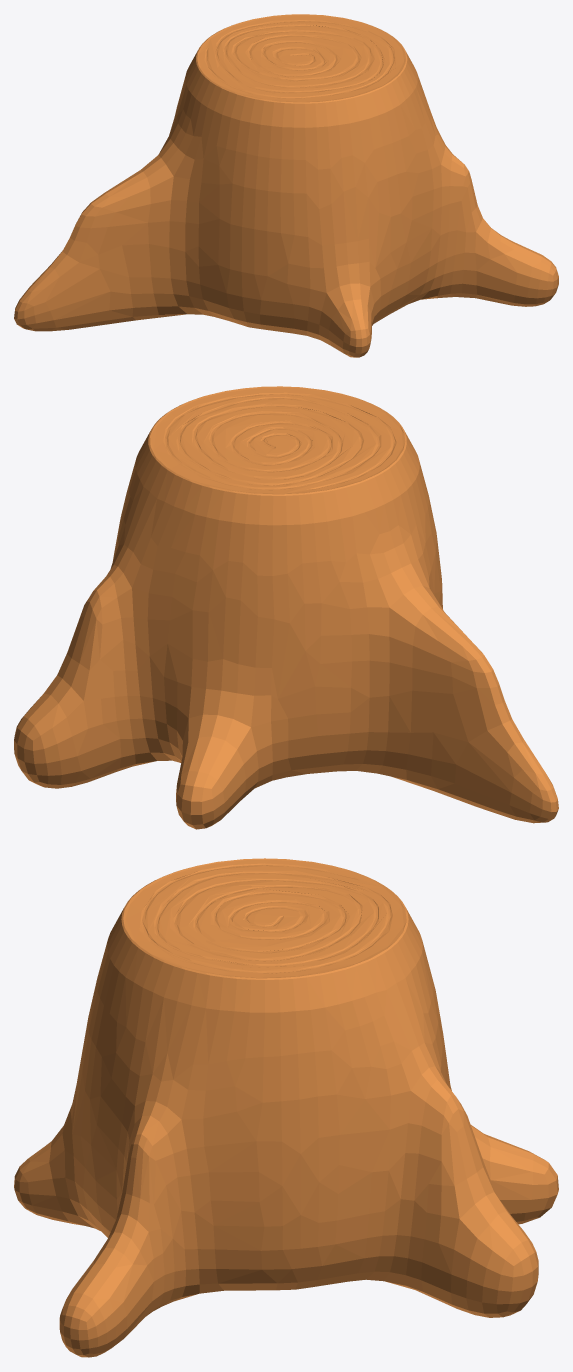
File: TreeStump.fbx
The picture shows the model from 3 angles, top to bottom: view 1: azimuth 30°, elevation 25°; view 2: azimuth 150°, elevation 25°; view 3: azimuth 270°, elevation 25°; orthographic projection. The views are drawn at different scales.
Parts seen in each view (by area): view 1: Cylinder; view 2: Cylinder; view 3: Cylinder.
Boxes of the visible parts, x1=… form: Cylinder: x1=14, y1=14, x2=558, y2=357; Cylinder: x1=14, y1=386, x2=558, y2=829; Cylinder: x1=14, y1=858, x2=558, y2=1357.
Bounding box in the file's own units: 432 × 227 × 336.
